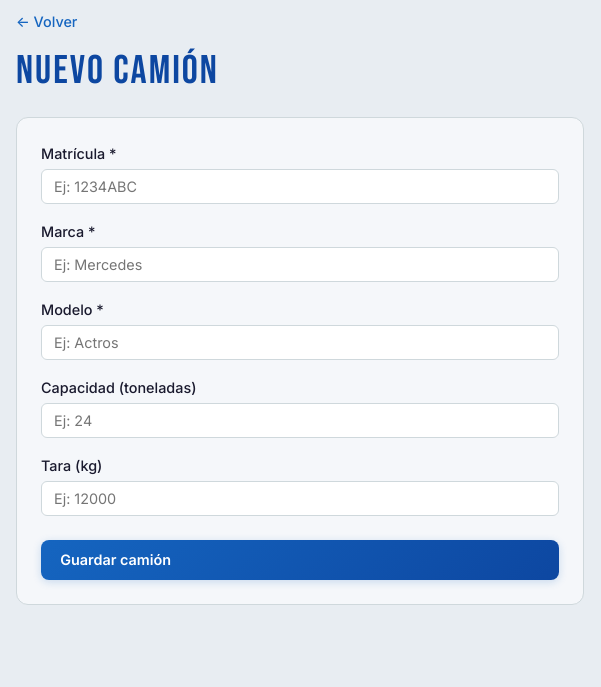
Scenario: CamionFormPage › shows error message on API failure
Type "1234ABC" into the field with placeholder "Ej: 1234ABC" at (300, 187), box [41, 169, 559, 204]
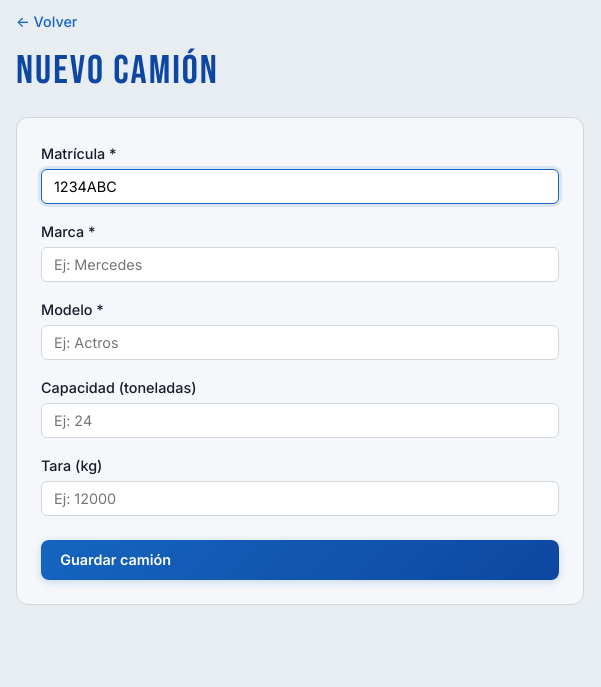
Type "Mercedes" into the field with placeholder "Ej: Mercedes" at (300, 265), box [41, 247, 559, 282]
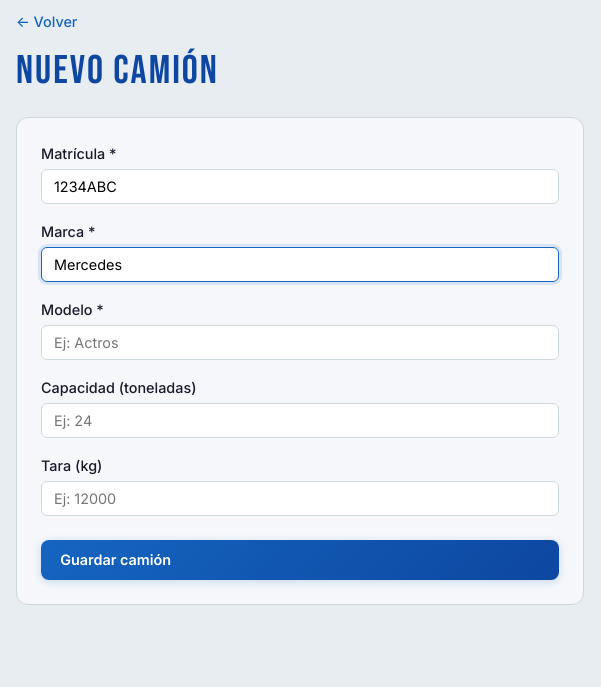
Type "Actros" into the field with placeholder "Ej: Actros" at (300, 343), box [41, 325, 559, 360]
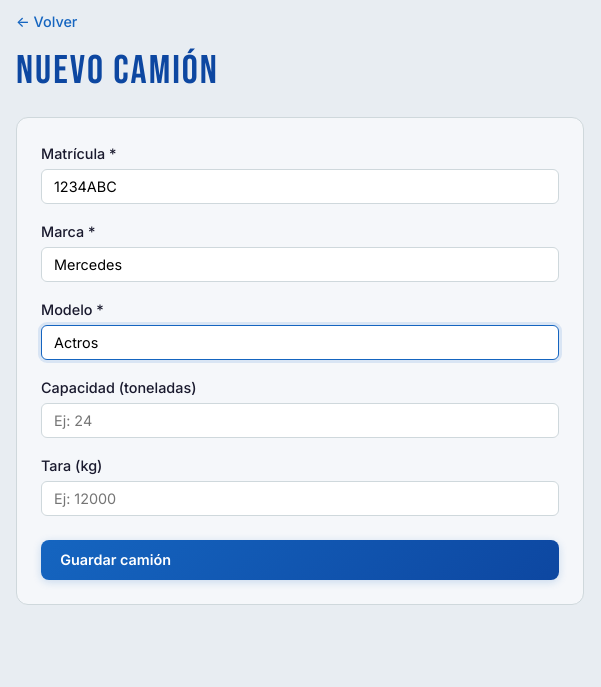
Click the button "Guardar camión" at (116, 559), box [41, 540, 559, 580]
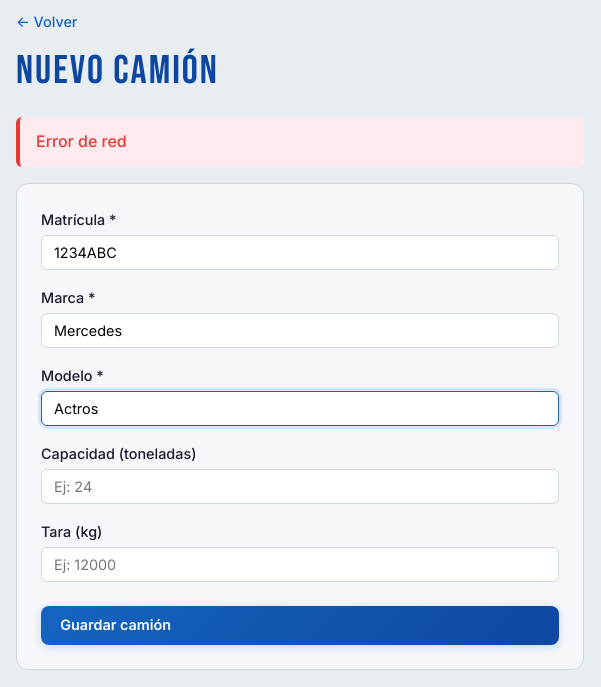
Expected: the text "Error de red" is shown, [16, 117, 584, 167]
